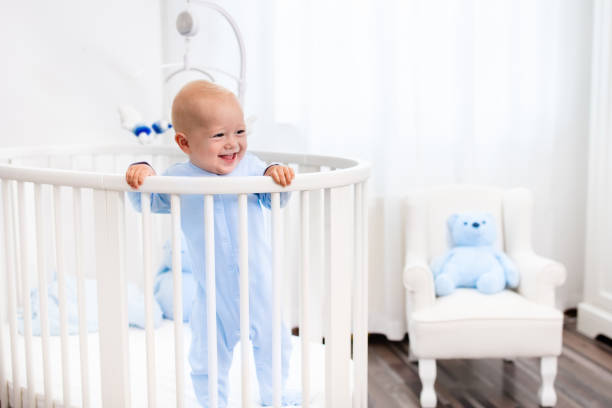baby: (247, 193, 272, 404)
crib: (0, 145, 369, 407)
